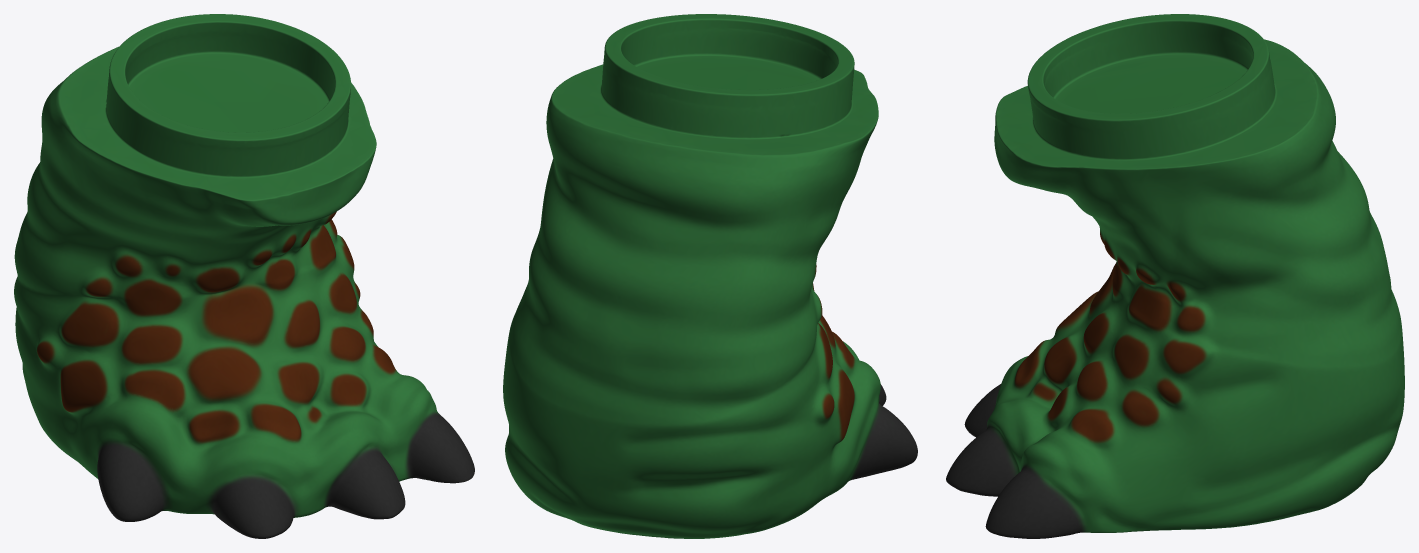
File: Patte_Tortue_lft.glb
3 renders of one model, left to right at view 1: azimuth 30°, elevation 25°; view 2: azimuth 150°, elevation 25°; view 3: azimuth 270°, elevation 25°, orthographic. The views are drawn at different scales.
Parts seen in each view (by area): view 1: Patte_Tortue_lft; view 2: Patte_Tortue_lft; view 3: Patte_Tortue_lft.
Boxes of the visible parts, left/top/right/bottom form: Patte_Tortue_lft: left=14, top=14, right=474, bottom=538; Patte_Tortue_lft: left=503, top=14, right=917, bottom=538; Patte_Tortue_lft: left=946, top=14, right=1404, bottom=538.
Bounding box in the file's own units: 1.94 × 2.25 × 2.34.
